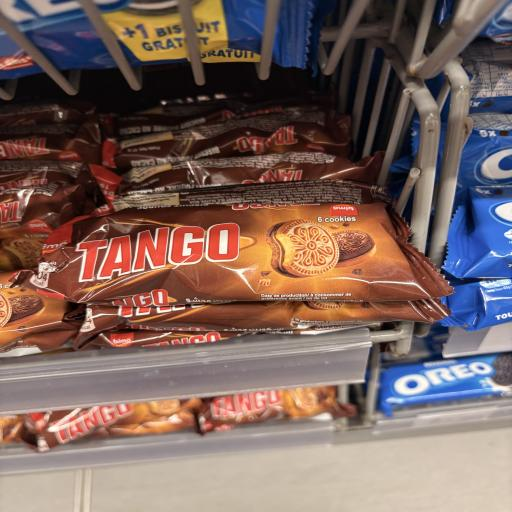tango: (43, 204, 469, 374)
